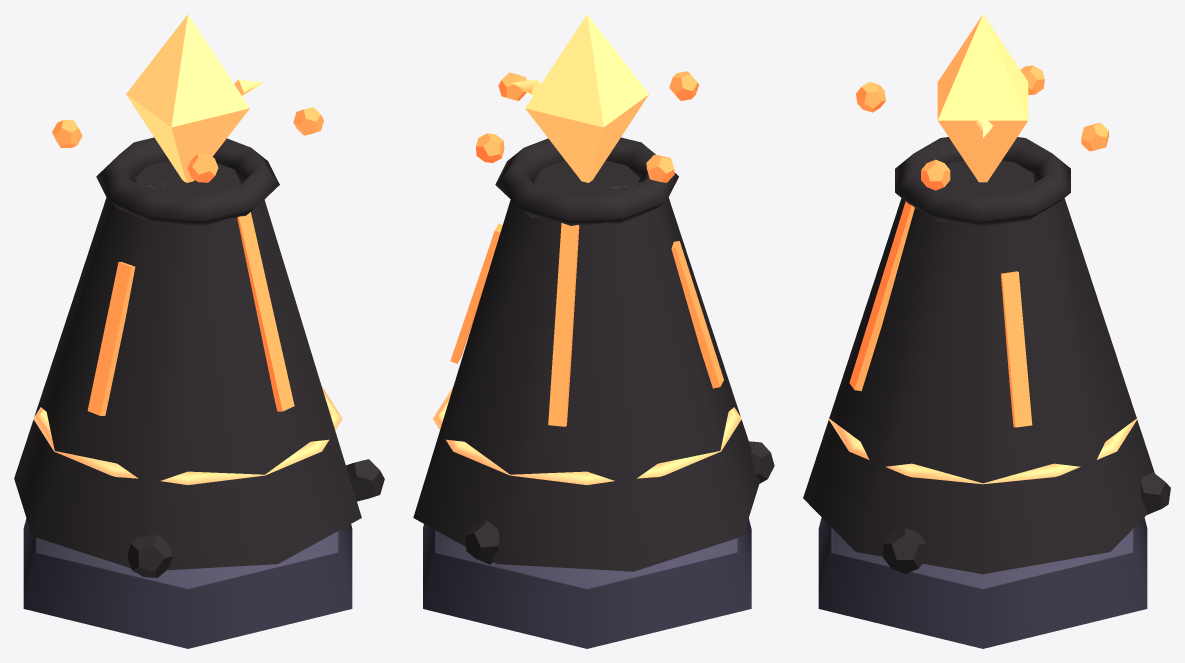
The model's file is tower_element_elementVolcano.glb.
3 views of the same model, side by side, from view 1: azimuth 30°, elevation 25°; view 2: azimuth 150°, elevation 25°; view 3: azimuth 270°, elevation 25° (orthographic).
Visible parts, largest first — view 1: volcano, base, crystal, volcano_rim, base_top, lava_rivulet_0_flow, lava_rivulet_3_flow, volcano_band, lava_rock_1, lava_rock_0, ember_1, ember_2 (+1 smaller); view 2: volcano, base, crystal, volcano_rim, lava_rivulet_2_flow, base_top, volcano_band, lava_rivulet_3_flow, lava_rivulet_1_flow, lava_rock_2, lava_rock_1, ember_3 (+3 smaller); view 3: volcano, base, crystal, volcano_rim, base_top, lava_rivulet_1_flow, lava_rivulet_0_flow, volcano_band, lava_rock_0, lava_rock_2, ember_0, ember_1 (+1 smaller).
Boxes of the visible parts, left/top/right/bottom form: volcano: left=14, top=160, right=361, bottom=570; base: left=23, top=518, right=352, bottom=648; crystal: left=126, top=14, right=249, bottom=182; volcano_rim: left=96, top=137, right=279, bottom=227; base_top: left=38, top=531, right=337, bottom=588; lava_rivulet_0_flow: left=237, top=212, right=294, bottom=411; lava_rivulet_3_flow: left=87, top=261, right=135, bottom=415; volcano_band: left=33, top=386, right=342, bottom=484; lava_rock_1: left=127, top=534, right=172, bottom=577; lava_rock_0: left=346, top=459, right=384, bottom=501; ember_1: left=187, top=153, right=218, bottom=182; ember_2: left=52, top=120, right=82, bottom=147; volcano: left=413, top=160, right=760, bottom=571; base: left=423, top=518, right=751, bottom=648; crystal: left=525, top=14, right=648, bottom=182; volcano_rim: left=495, top=137, right=678, bottom=226; lava_rivulet_2_flow: left=548, top=223, right=579, bottom=426; base_top: left=437, top=531, right=737, bottom=588; volcano_band: left=432, top=386, right=741, bottom=485; lava_rivulet_3_flow: left=671, top=241, right=723, bottom=388; lava_rivulet_1_flow: left=450, top=223, right=502, bottom=363; lava_rock_2: left=465, top=519, right=499, bottom=564; lava_rock_1: left=749, top=441, right=774, bottom=483; ember_3: left=476, top=133, right=504, bottom=163; volcano: left=803, top=160, right=1154, bottom=574; base: left=818, top=517, right=1147, bottom=648; crystal: left=937, top=14, right=1028, bottom=182; volcano_rim: left=895, top=137, right=1070, bottom=225; base_top: left=833, top=529, right=1132, bottom=588; lava_rivulet_1_flow: left=1001, top=271, right=1032, bottom=427; lava_rivulet_0_flow: left=849, top=201, right=914, bottom=391; volcano_band: left=828, top=417, right=1137, bottom=484; lava_rock_0: left=883, top=527, right=926, bottom=573; lava_rock_2: left=1140, top=471, right=1170, bottom=514; ember_0: left=921, top=159, right=950, bottom=190; ember_1: left=856, top=81, right=885, bottom=112.
Bounding box in the file's own units: 0.39 × 0.629 × 0.3781.
